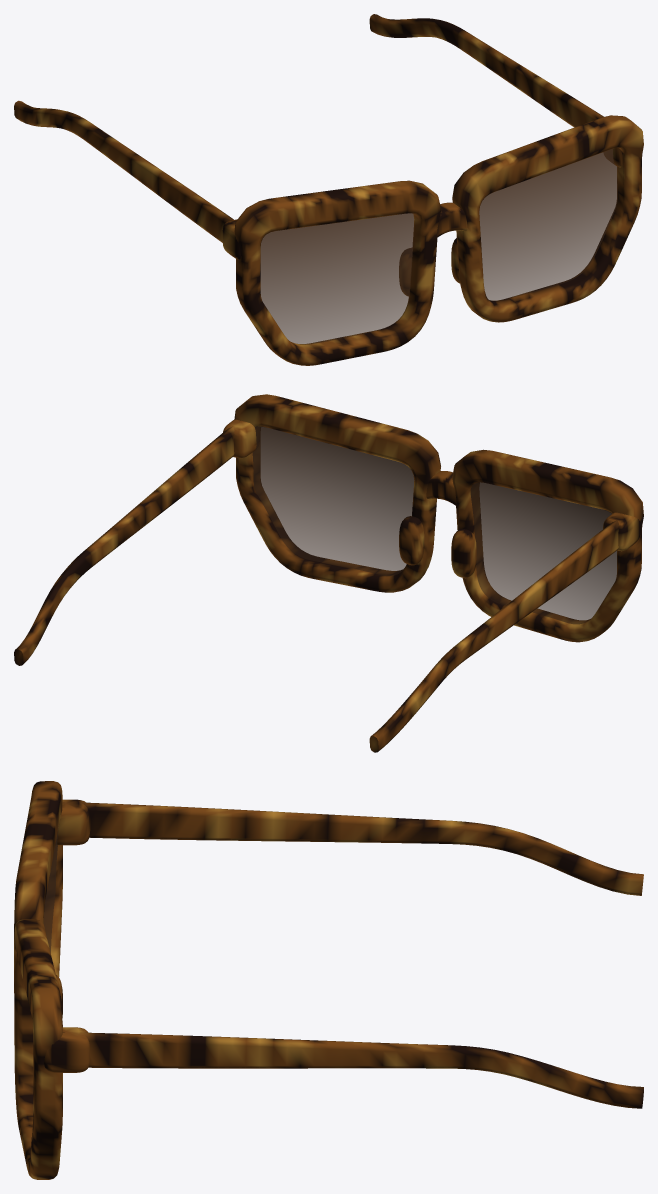
Rendered from TO-WAY-02.glb.
The picture shows the model from 3 angles, top to bottom: view 1: azimuth 30°, elevation 25°; view 2: azimuth 150°, elevation 25°; view 3: azimuth 270°, elevation 25°; orthographic projection. The views are drawn at different scales.
Parts seen in each view (by area): view 1: frame, lenses; view 2: frame, lenses; view 3: frame, lenses.
Boxes of the visible parts, x1,y1,x2,y2 form: frame: (14,14,643,365); lenses: (260,149,617,344); frame: (14,394,643,752); lenses: (252,426,616,624); frame: (14,781,643,1179); lenses: (43,826,58,952).
Size of the model in its own units: 0.1362 by 0.0546 by 0.1498.
